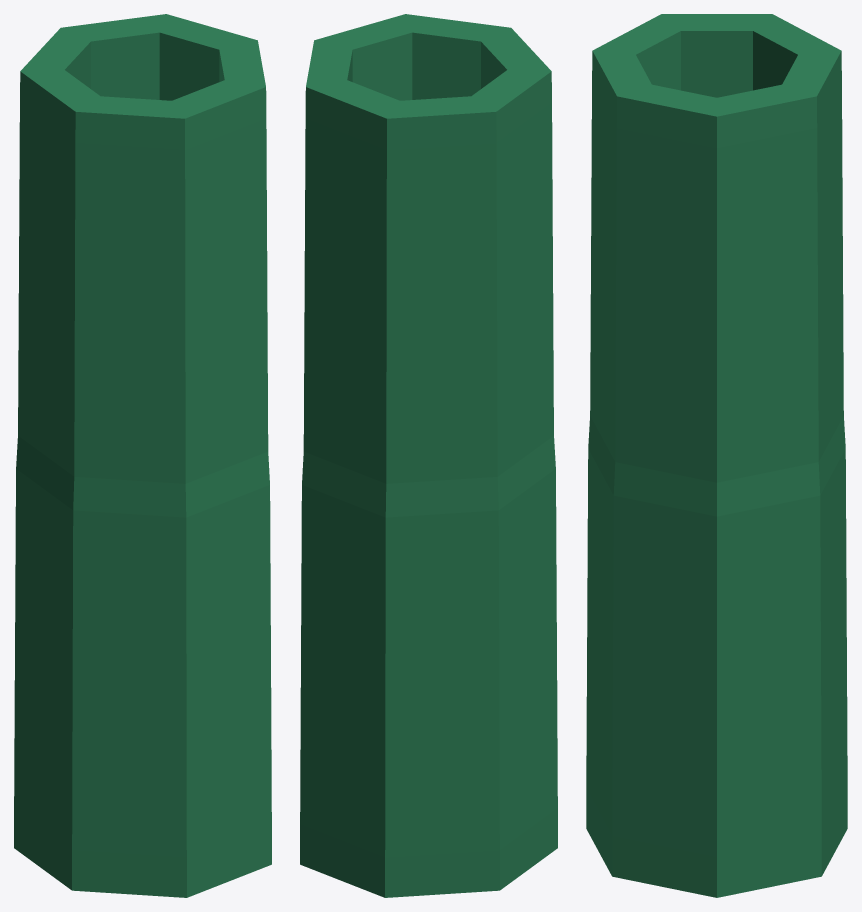
The model's file is sugarcane.glb.
3 renders of one model, left to right at view 1: azimuth 30°, elevation 25°; view 2: azimuth 150°, elevation 25°; view 3: azimuth 270°, elevation 25°, orthographic.
Parts seen in each view (by area): view 1: Bamboo_Crop_Cylinder007; view 2: Bamboo_Crop_Cylinder007; view 3: Bamboo_Crop_Cylinder007.
Part boxes in pixels (x1,y1,x2,y2): Bamboo_Crop_Cylinder007: [14, 14, 271, 897]; Bamboo_Crop_Cylinder007: [300, 14, 557, 897]; Bamboo_Crop_Cylinder007: [586, 14, 847, 897].
Bounding box in the file's own units: 0.4336 × 1.46 × 0.4448.
